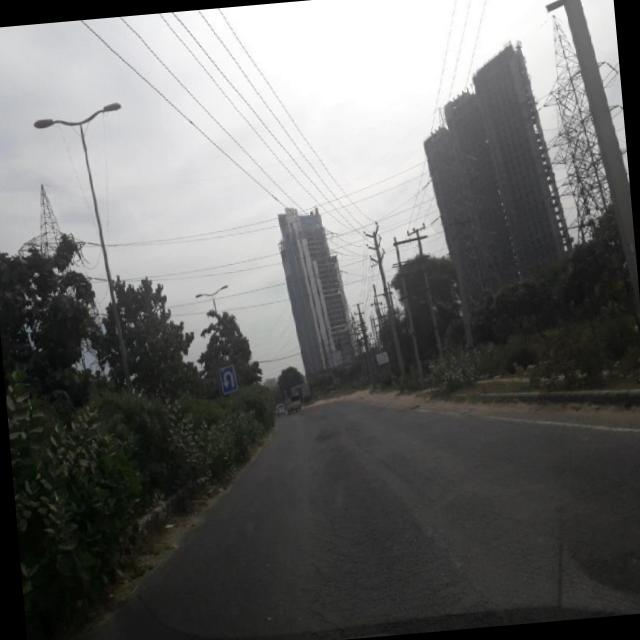crack: (254, 402, 556, 627)
